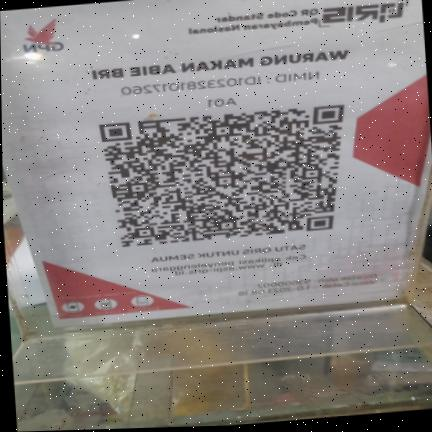Qris-Positioning: (0, 0, 432, 327)
